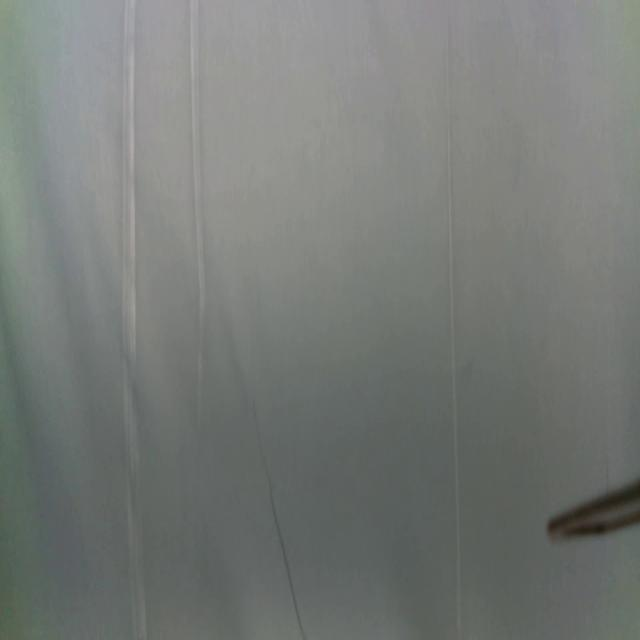crease: (120, 0, 147, 639), (443, 0, 466, 639), (253, 409, 305, 635), (188, 0, 208, 420)
